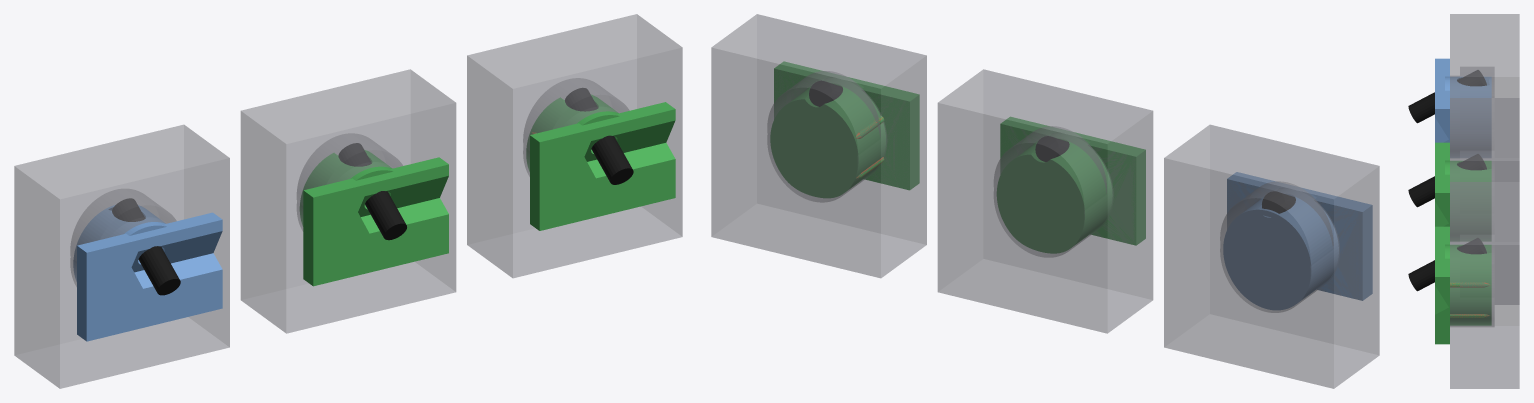
File: plug_options.obj
The picture shows the model from 3 angles, left to right: view 1: azimuth 30°, elevation 25°; view 2: azimuth 150°, elevation 25°; view 3: azimuth 270°, elevation 25°; orthographic projection. The views are drawn at different scales.
Parts seen in each view (by area): view 1: 2_vblock_nose_hanger, 3_vblock_nose_ribs_hanger, 1_r6_plug_hanger, 1_r6_plug, 3_vblock_nose_ribs, 2_vblock_nose, 1_r6_plug_screw, 2_vblock_nose_screw, 3_vblock_nose_ribs_screw; view 2: 2_vblock_nose_hanger, 1_r6_plug_hanger, 3_vblock_nose_ribs_hanger, 1_r6_plug, 2_vblock_nose, 3_vblock_nose_ribs, 3_vblock_nose_ribs_screw, 2_vblock_nose_screw; view 3: 3_vblock_nose_ribs_hanger, 2_vblock_nose_hanger, 1_r6_plug_hanger, 3_vblock_nose_ribs, 1_r6_plug, 2_vblock_nose, 3_vblock_nose_ribs_screw, 1_r6_plug_screw, 2_vblock_nose_screw.
Part boxes in pixels (left/top/right/bottom): 2_vblock_nose_hanger: left=240, top=69, right=456, bottom=333; 3_vblock_nose_ribs_hanger: left=467, top=14, right=682, bottom=278; 1_r6_plug_hanger: left=14, top=124, right=229, bottom=388; 1_r6_plug: left=73, top=205, right=222, bottom=341; 3_vblock_nose_ribs: left=526, top=94, right=675, bottom=230; 2_vblock_nose: left=300, top=150, right=448, bottom=286; 1_r6_plug_screw: left=112, top=198, right=180, bottom=295; 2_vblock_nose_screw: left=338, top=143, right=406, bottom=240; 3_vblock_nose_ribs_screw: left=565, top=88, right=633, bottom=184; 2_vblock_nose_hanger: left=937, top=69, right=1153, bottom=333; 1_r6_plug_hanger: left=1164, top=124, right=1379, bottom=388; 3_vblock_nose_ribs_hanger: left=711, top=14, right=926, bottom=278; 1_r6_plug: left=1223, top=172, right=1372, bottom=309; 2_vblock_nose: left=997, top=117, right=1145, bottom=253; 3_vblock_nose_ribs: left=770, top=61, right=919, bottom=197; 3_vblock_nose_ribs_screw: left=809, top=81, right=842, bottom=106; 2_vblock_nose_screw: left=1035, top=136, right=1069, bottom=161; 3_vblock_nose_ribs_hanger: left=1450, top=182, right=1519, bottom=388; 2_vblock_nose_hanger: left=1450, top=98, right=1519, bottom=304; 1_r6_plug_hanger: left=1450, top=14, right=1519, bottom=181; 3_vblock_nose_ribs: left=1435, top=226, right=1491, bottom=344; 1_r6_plug: left=1435, top=58, right=1491, bottom=157; 2_vblock_nose: left=1435, top=142, right=1491, bottom=240; 3_vblock_nose_ribs_screw: left=1408, top=238, right=1486, bottom=291; 1_r6_plug_screw: left=1408, top=70, right=1486, bottom=123; 2_vblock_nose_screw: left=1408, top=154, right=1486, bottom=207.
Bounding box in the file's own units: 110 × 32 × 22.37.
